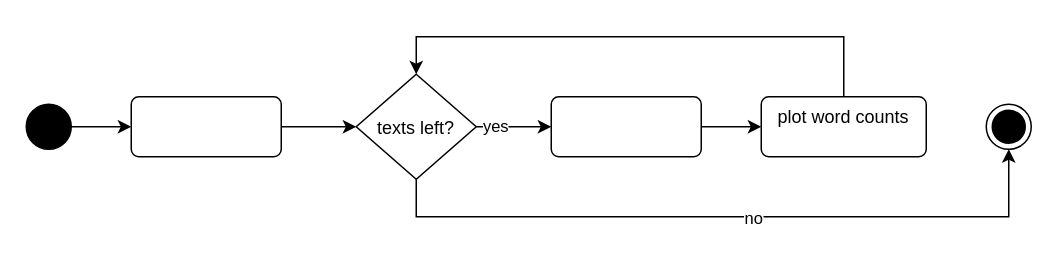
Some shapes in this 1058 by 255 pixel diagram are drawn without their labels. The shapes that lost their labels are listed below. From the top down, each one's box as (x1, y1, x2, y2) in pixels, then its label:
(130, 95, 281, 157): load input texts
(550, 95, 701, 157): count words
